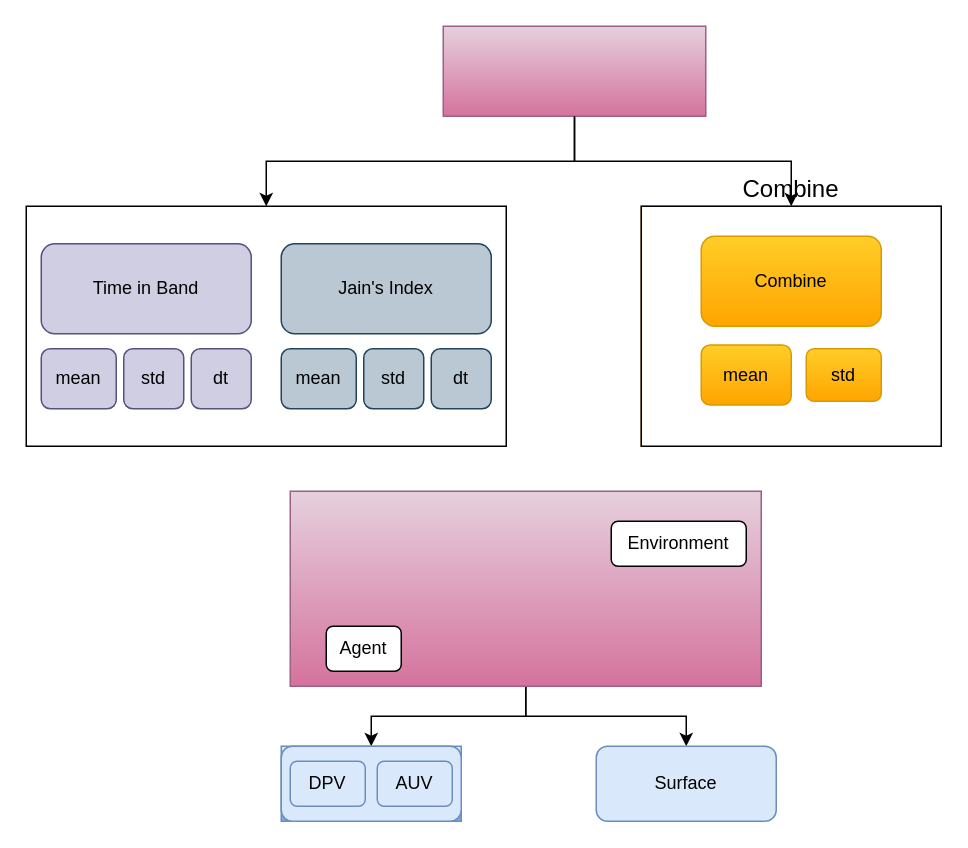
The diagram is 968 pixels wide and 848 high, and some of its shapes have lost their labels. The box of each missing label's shape, as (x1, y1, x2, y2) in pixels:
BANDWIDTH PARAMETER MATRIX: (442, 25, 706, 116)
Deep RL: (289, 490, 761, 686)
Stability: (25, 205, 506, 446)
Underwater: (280, 745, 461, 821)
